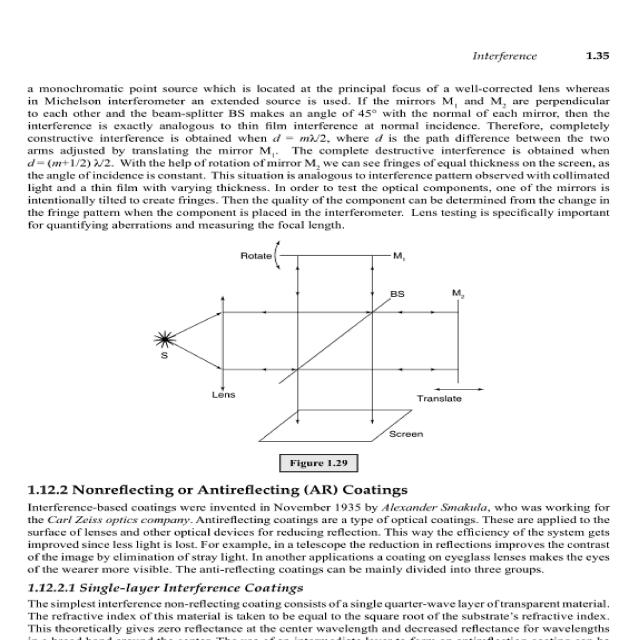diagram: (100, 230, 536, 480)
